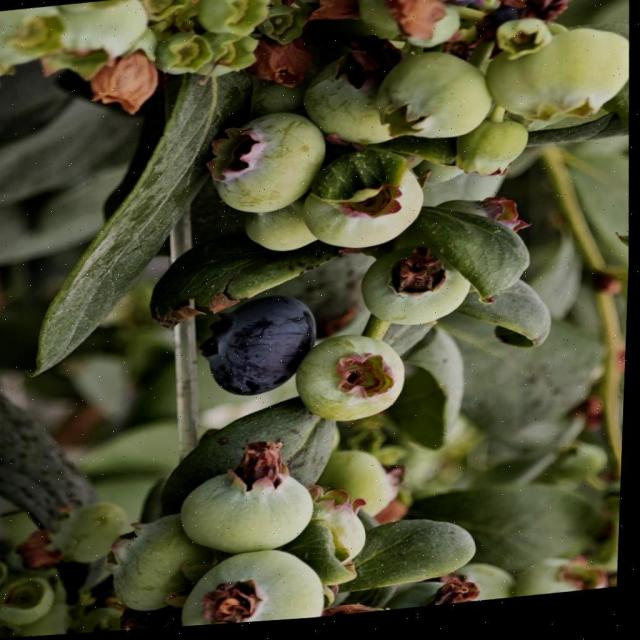RipeBlueBerry: (202, 296, 322, 404)
UnripeBlueBerry: (482, 31, 632, 136), (180, 459, 321, 563), (204, 111, 330, 222), (374, 50, 493, 152), (302, 168, 428, 260), (296, 333, 412, 432), (362, 246, 474, 335)
